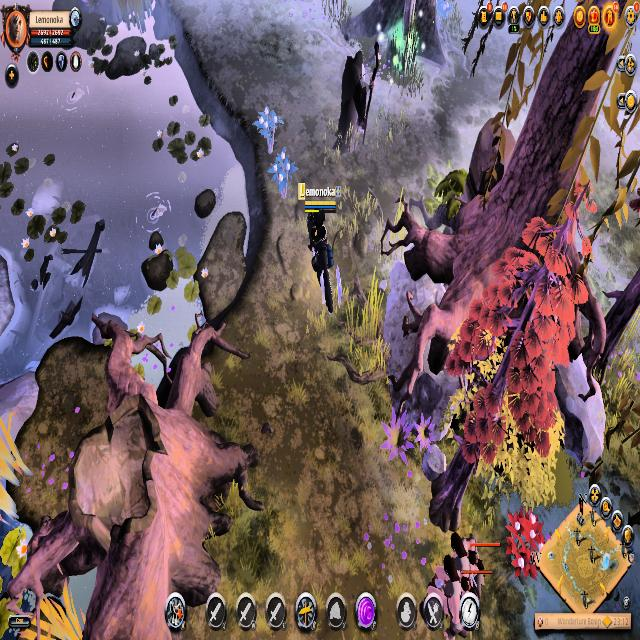fiber tier 4: (254, 104, 285, 153), (270, 151, 295, 199)
fish: (132, 186, 176, 236), (56, 73, 93, 122)
